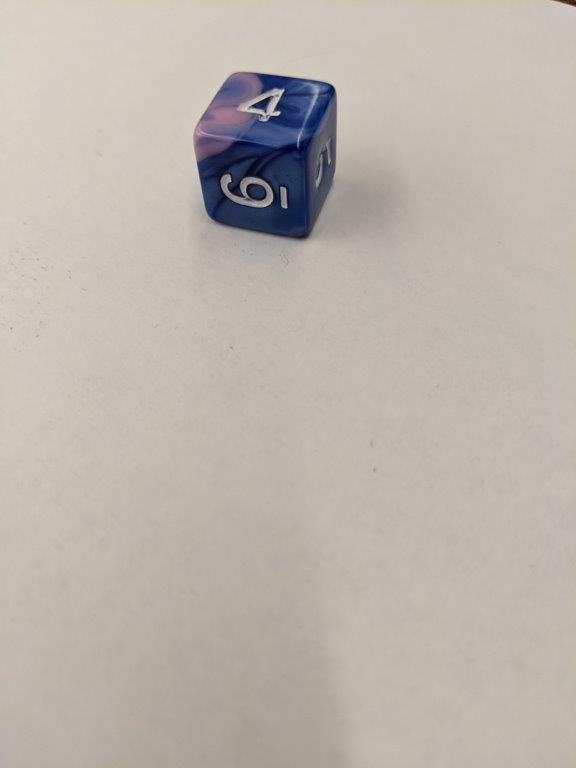d6-4: (192, 71, 342, 239)
